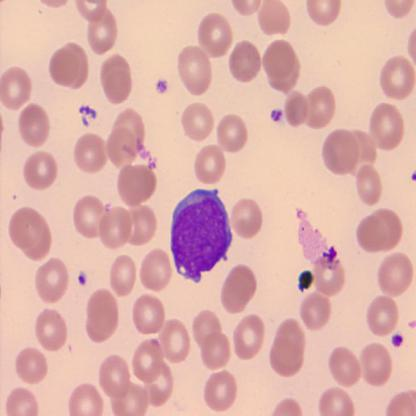Blast: (168, 184, 233, 285)
